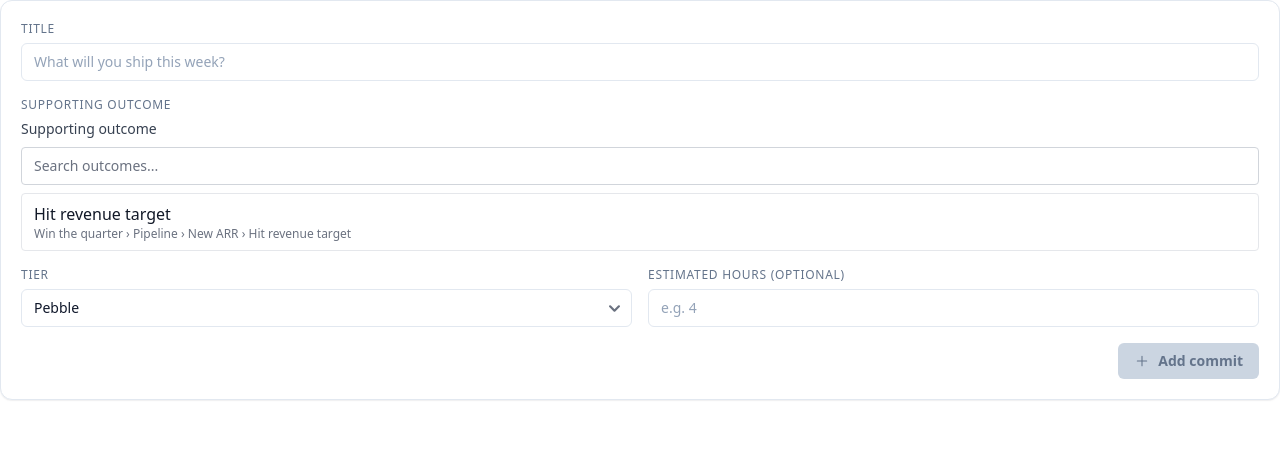
it: <CommitCreateForm /> › clears the form after a successful submit
Type "Ship the picker integration" into the field labelled "Title" at (640,62), box left=21, top=43, right=1259, bottom=81
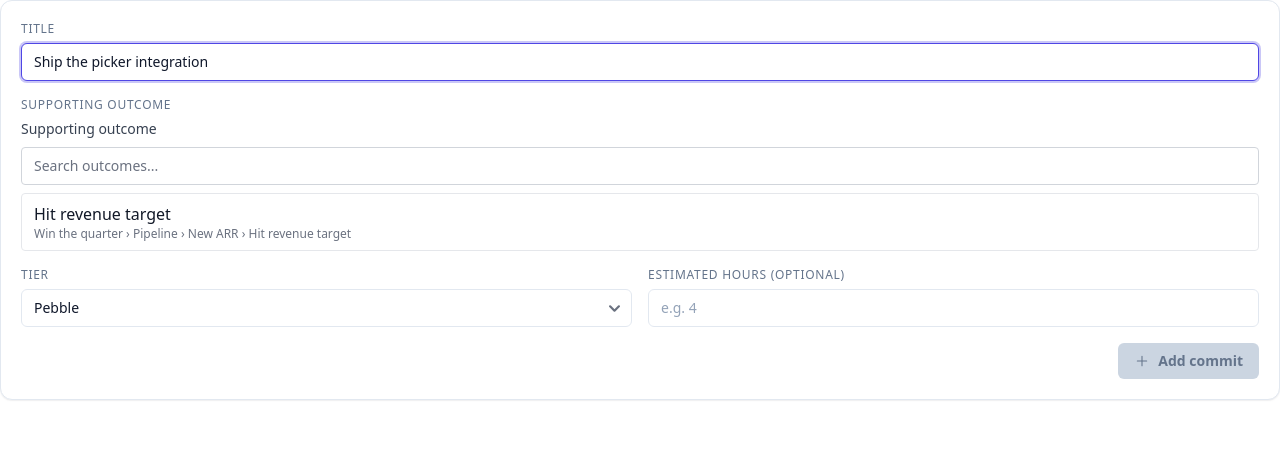
Click the option "Hit revenue target" at (102,214), box left=21, top=193, right=1259, bottom=251
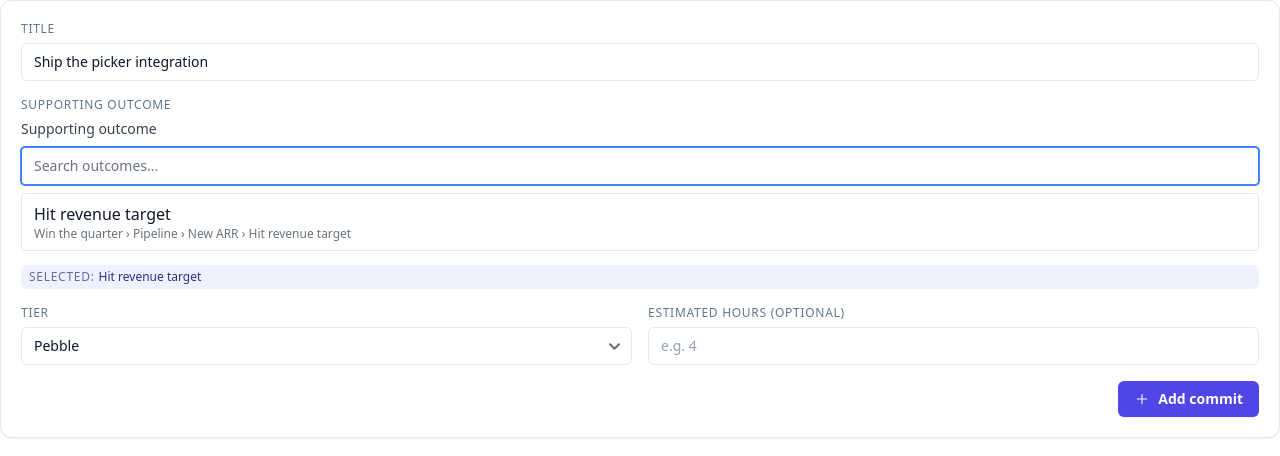
Click the button "Add commit" at (1189,399), box left=1118, top=381, right=1259, bottom=417
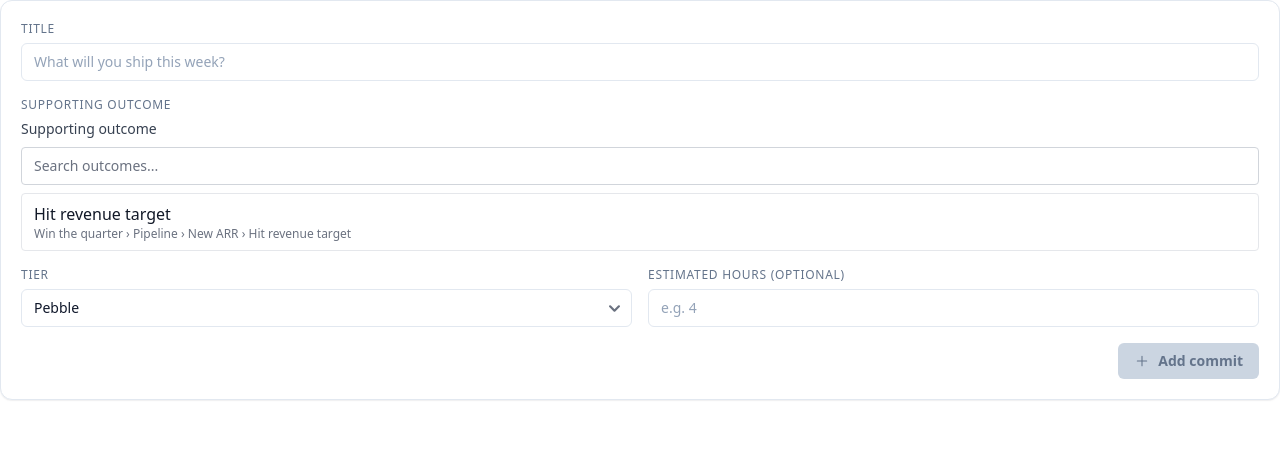
Expected: the field labelled "Title" is empty, left=21, top=43, right=1259, bottom=81
Expected: the button "Add commit" is disabled, left=1118, top=343, right=1259, bottom=379
